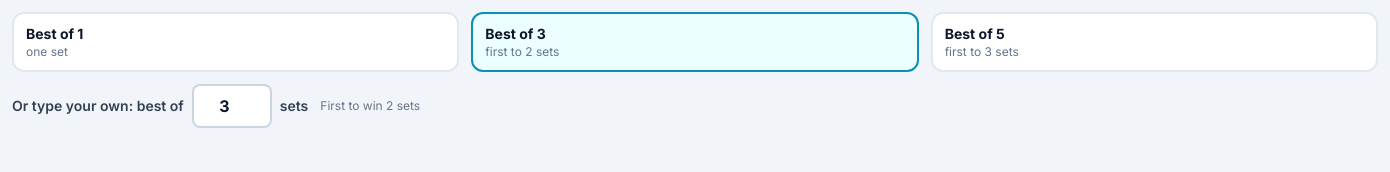
Test: SetsPicker (admin types the number of sets) › quick buttons set 1, 3 and 5
The width and height of the screenshot is (1390, 172).
Click the radio button labelled "Best of 5 first to 3 sets". click: [970, 34]
box: [931,12,1378,72]
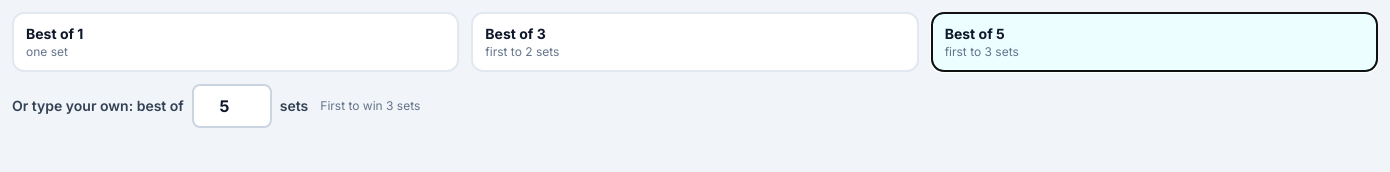
Click the radio button labelled "Best of 1 one set". click: [52, 34]
box: [12,12,459,72]
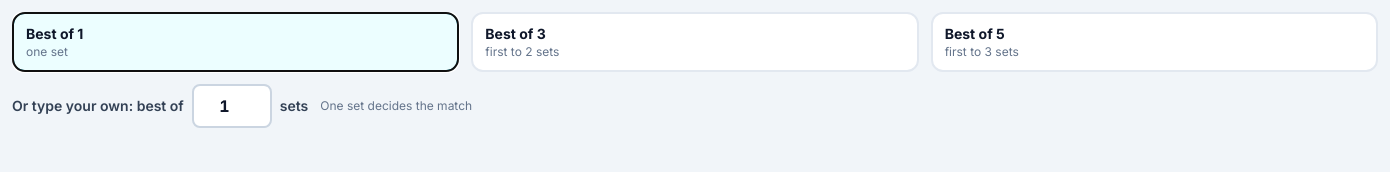
Check: the number field named "custom number of sets" holds "1", box [192,84,272,128]
